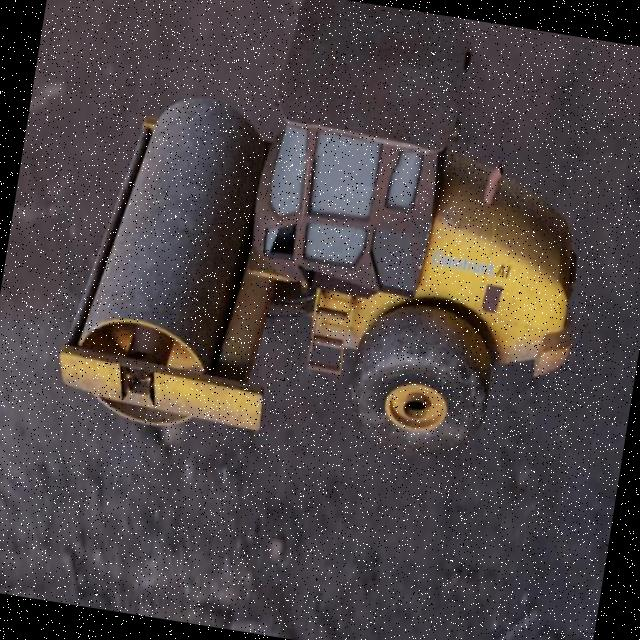Roller: (50, 0, 619, 486)
